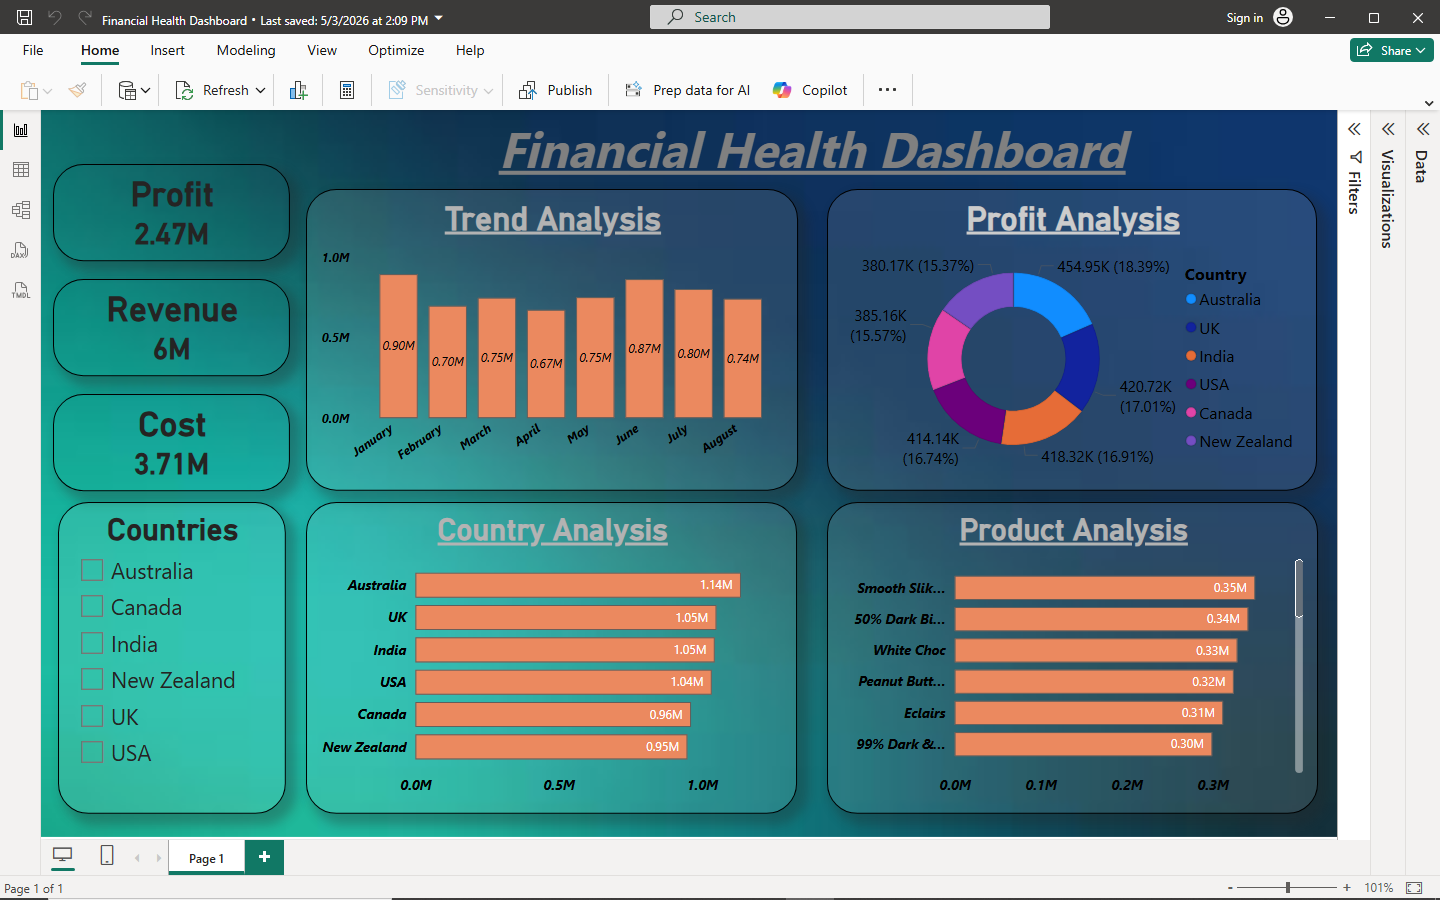

The dashboard page shown, as its layout file describes it:
{"tool":"powerbi","page":{"name":"Page 1","canvas":[1280,720],"ordinal":0},"visuals":[{"type":"card","title":"Profit","fields":{"Values":["Sales_Clean.Profit"]},"box":[12.2,53.6,234.3,96.5],"z":0},{"type":"card","title":"Revenue","fields":{"Values":["Sales_Clean.Total Revenue"]},"box":[12.2,166.9,234.3,96.5],"z":1000},{"type":"card","title":"Cost","fields":{"Values":["Sales_Clean.Cost"]},"box":[12.2,280.2,234.3,96.5],"z":2000},{"type":"lineStackedColumnComboChart","title":"Trend Analysis","fields":{"Category":["Sales_Clean.Date.Variation.Date Hierarchy.Month"],"Y":["Sales_Clean.Total Revenue"]},"box":[261.4,77.8,485.7,298.3],"z":3000},{"type":"barChart","title":"Country Analysis","fields":{"Y":["Sales_Clean.Total Revenue"],"Category":["Sales_Clean.Country"]},"box":[261.8,387.4,485.4,307.8],"z":4000},{"type":"barChart","title":"Product Analysis","fields":{"Y":["Sales_Clean.Total Revenue"],"Category":["Sales_Clean.Product"]},"box":[776.3,387.4,485.4,307.8],"z":5000},{"type":"slicer","title":"Countries","fields":{"Values":["Sales_Clean.Country"]},"box":[16.8,387.4,225.1,307.8],"z":6000},{"type":"textbox","box":[261.8,0,999.8,78.1],"z":7000},{"type":"donutChart","title":"Profit Analysis","fields":{"Category":["Sales_Clean.Country"],"Y":["Sales_Clean.Profit"]},"box":[776.4,77.8,484.5,298.3],"z":8000}]}

Visuals, with their boxes on the page's 1280x720 design canvas (x1, y1, x2, y2). These are canvas units, not pixel positions in the 1440x900 screenshot, which may show the page scaled, cropped or inside an application window:
"Profit" card: [x1=12, y1=54, x2=246, y2=150]
"Revenue" card: [x1=12, y1=167, x2=246, y2=263]
"Cost" card: [x1=12, y1=280, x2=246, y2=377]
"Trend Analysis" lineStackedColumnComboChart: [x1=261, y1=78, x2=747, y2=376]
"Country Analysis" barChart: [x1=262, y1=387, x2=747, y2=695]
"Product Analysis" barChart: [x1=776, y1=387, x2=1262, y2=695]
"Countries" slicer: [x1=17, y1=387, x2=242, y2=695]
textbox: [x1=262, y1=0, x2=1262, y2=78]
"Profit Analysis" donutChart: [x1=776, y1=78, x2=1261, y2=376]
